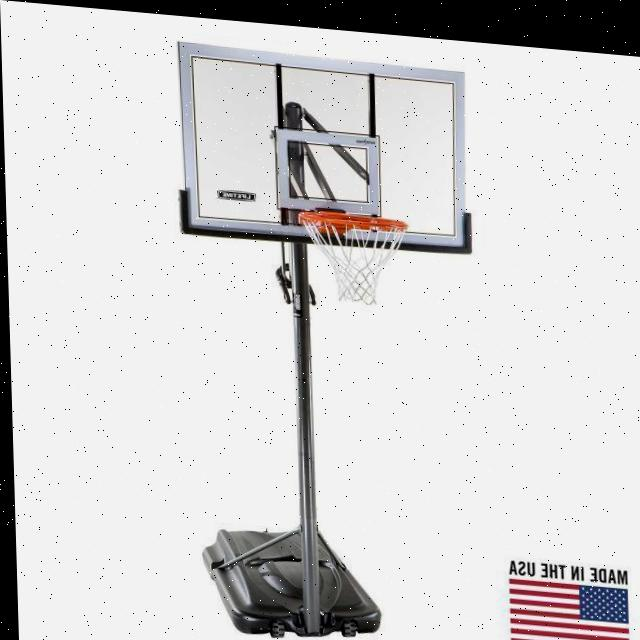hoop: (278, 172, 432, 320)
